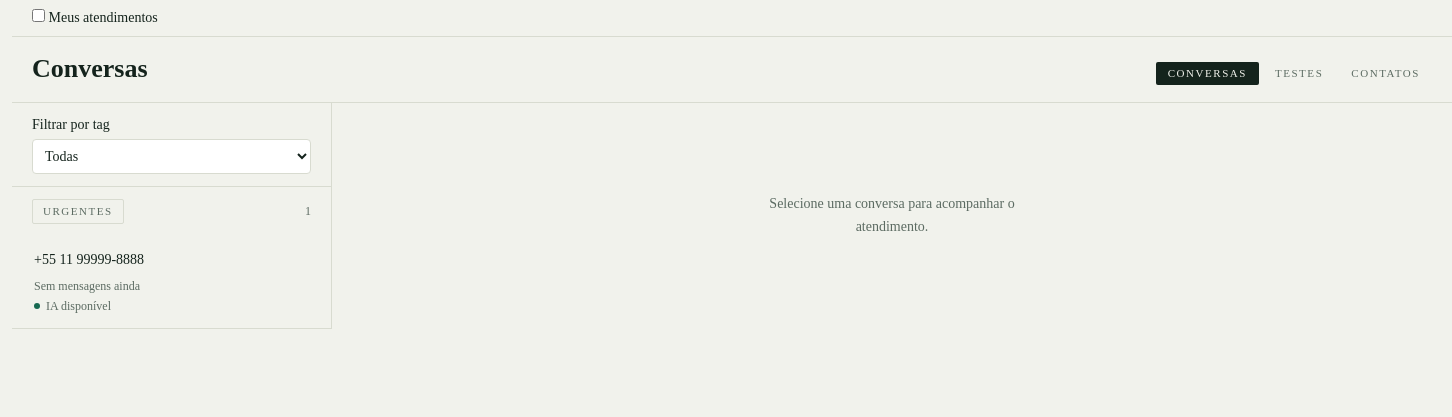
Test: ConversationsPanel — abas › remove a conversa da lista e informa que a exclusão continuará em segundo plano
Click the text "+55 11 99999-8888": [89, 260] box [34,250,144,270]
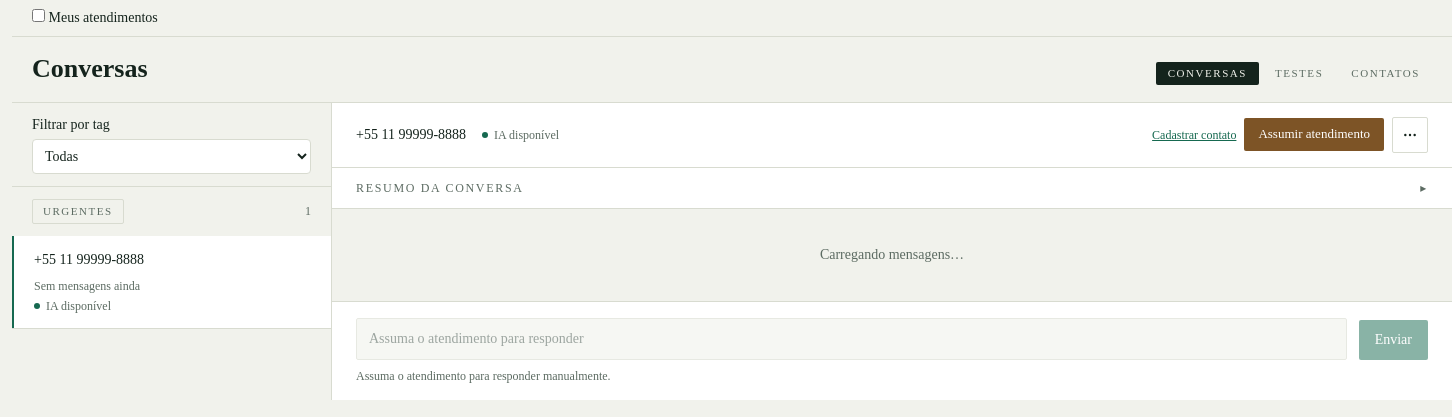
Click the button named "Mais ações": [1410, 134] box [1392,116,1428,152]
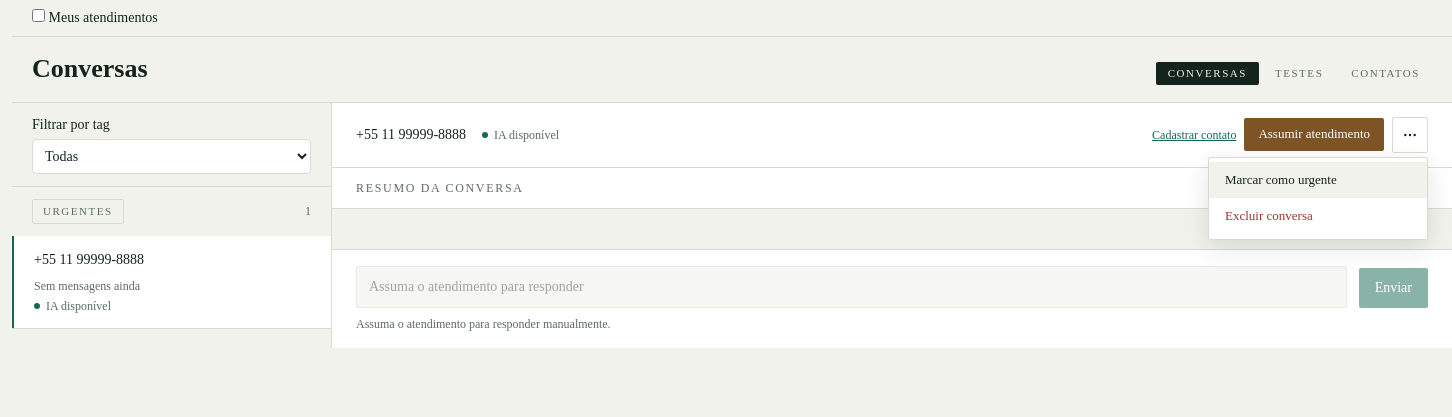
Click the menu item "Excluir conversa": [1318, 217] box [1209,198,1427,235]
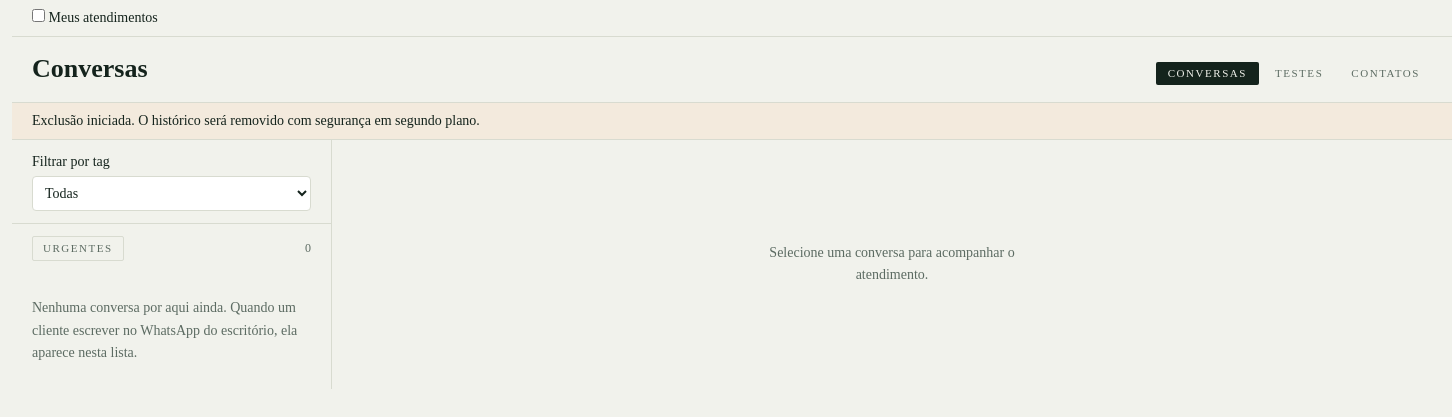
Result: the text "Exclusão iniciada. O histórico será removido com segurança em segundo plano." is shown at [12,102,1451,140]
Result: the button "+55 11 99999-8888" is gone
